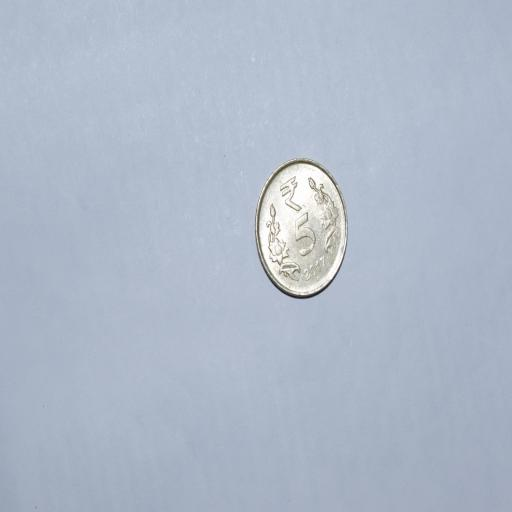rupee5: (253, 158, 348, 299)
